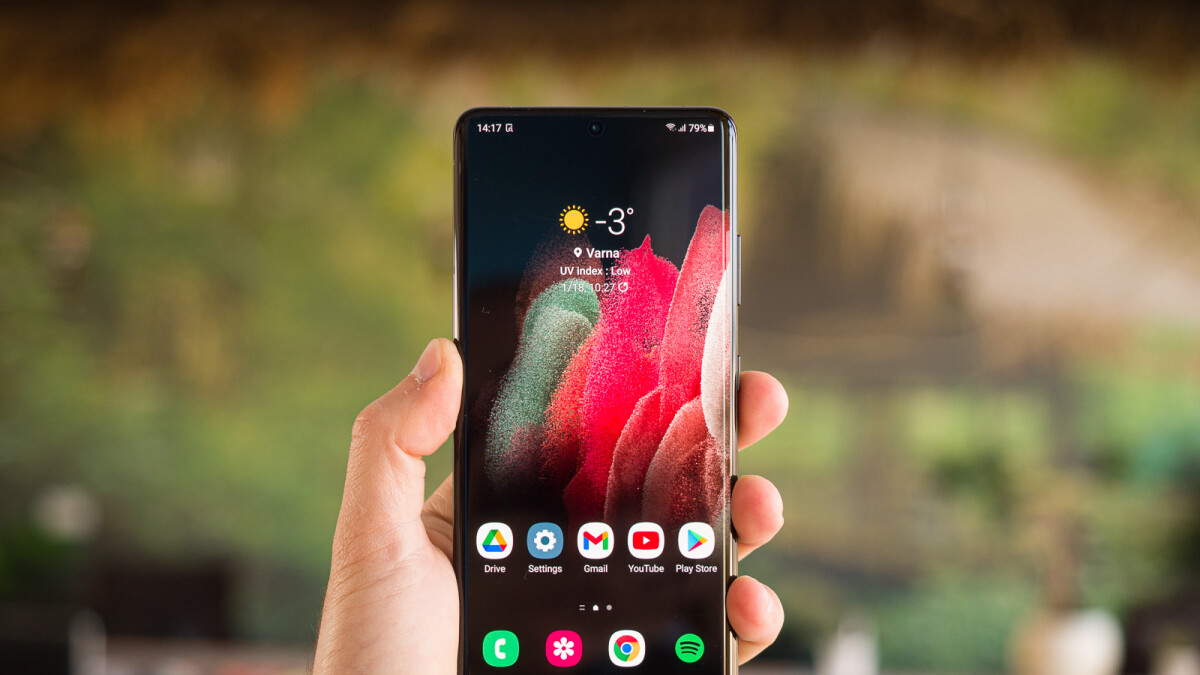Cell Phone: (451, 103, 731, 675)
